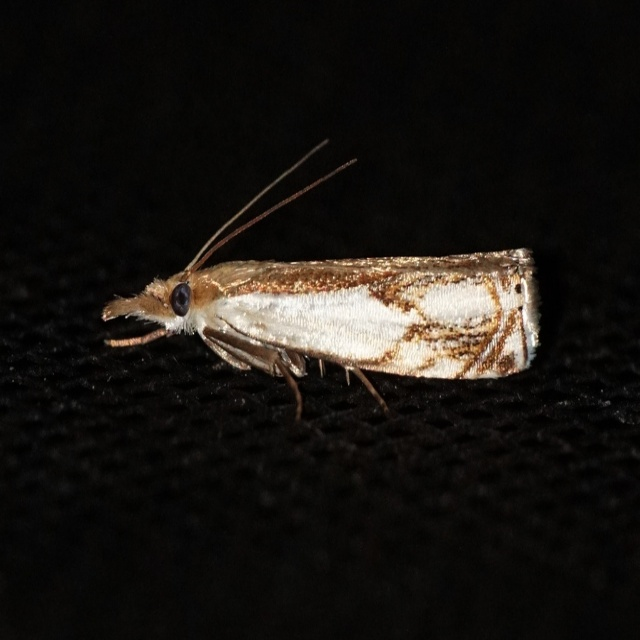Moths and butterflies: (100, 139, 543, 455)
